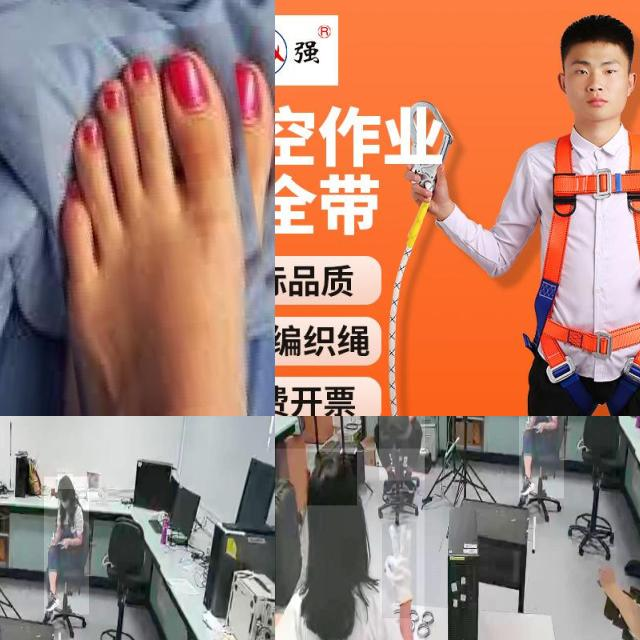Barefoots: (30, 43, 275, 416)
Harness: (532, 126, 640, 416)
No_Glasses: (570, 58, 625, 83)
hand_glove: (382, 522, 416, 618)
hand_noglove: (523, 416, 534, 430), (49, 531, 59, 546), (60, 536, 70, 548), (535, 420, 545, 432)
head_nohelmet: (306, 452, 358, 506), (58, 474, 74, 490)
person: (275, 448, 424, 640), (44, 477, 90, 615), (519, 416, 564, 499), (378, 416, 425, 480)
shoes: (382, 462, 397, 497), (43, 584, 60, 614), (518, 468, 535, 498), (402, 465, 416, 494)
